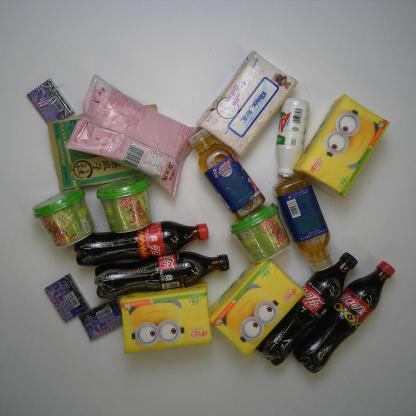Dried Food: (46, 104, 159, 191)
Drink: (256, 252, 359, 367), (292, 260, 396, 373), (187, 127, 266, 221), (93, 251, 231, 300), (73, 220, 209, 267), (272, 176, 334, 272)
Gum: (44, 272, 90, 324), (26, 78, 74, 125), (77, 297, 123, 341)
Instant Drink: (30, 186, 97, 250), (228, 202, 292, 265), (96, 175, 154, 236)
Milk: (276, 97, 310, 179)
Puffed Food: (63, 74, 202, 198)
Tissue: (196, 49, 299, 158), (293, 94, 391, 200), (208, 258, 306, 359), (119, 282, 213, 354)
